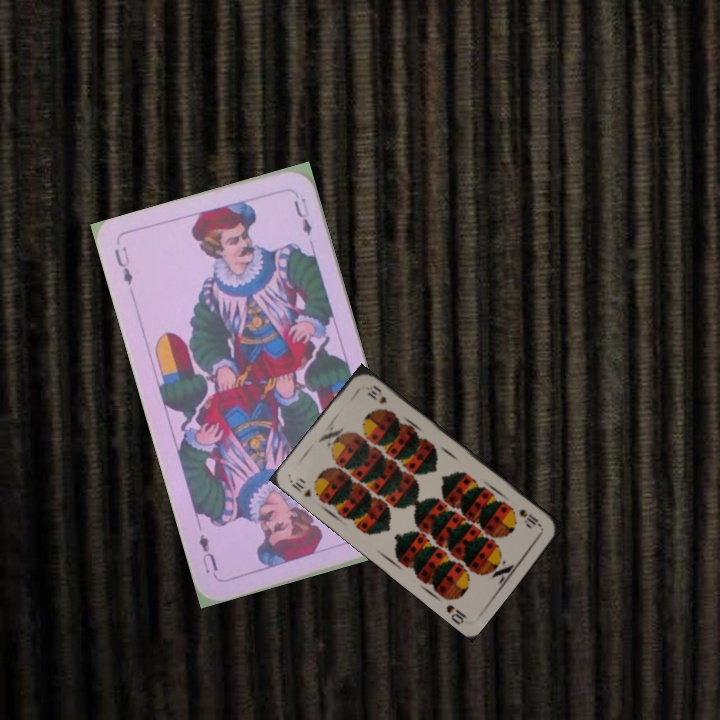EU: (110, 242, 136, 288)
S10: (286, 473, 314, 500), (514, 505, 544, 530)
